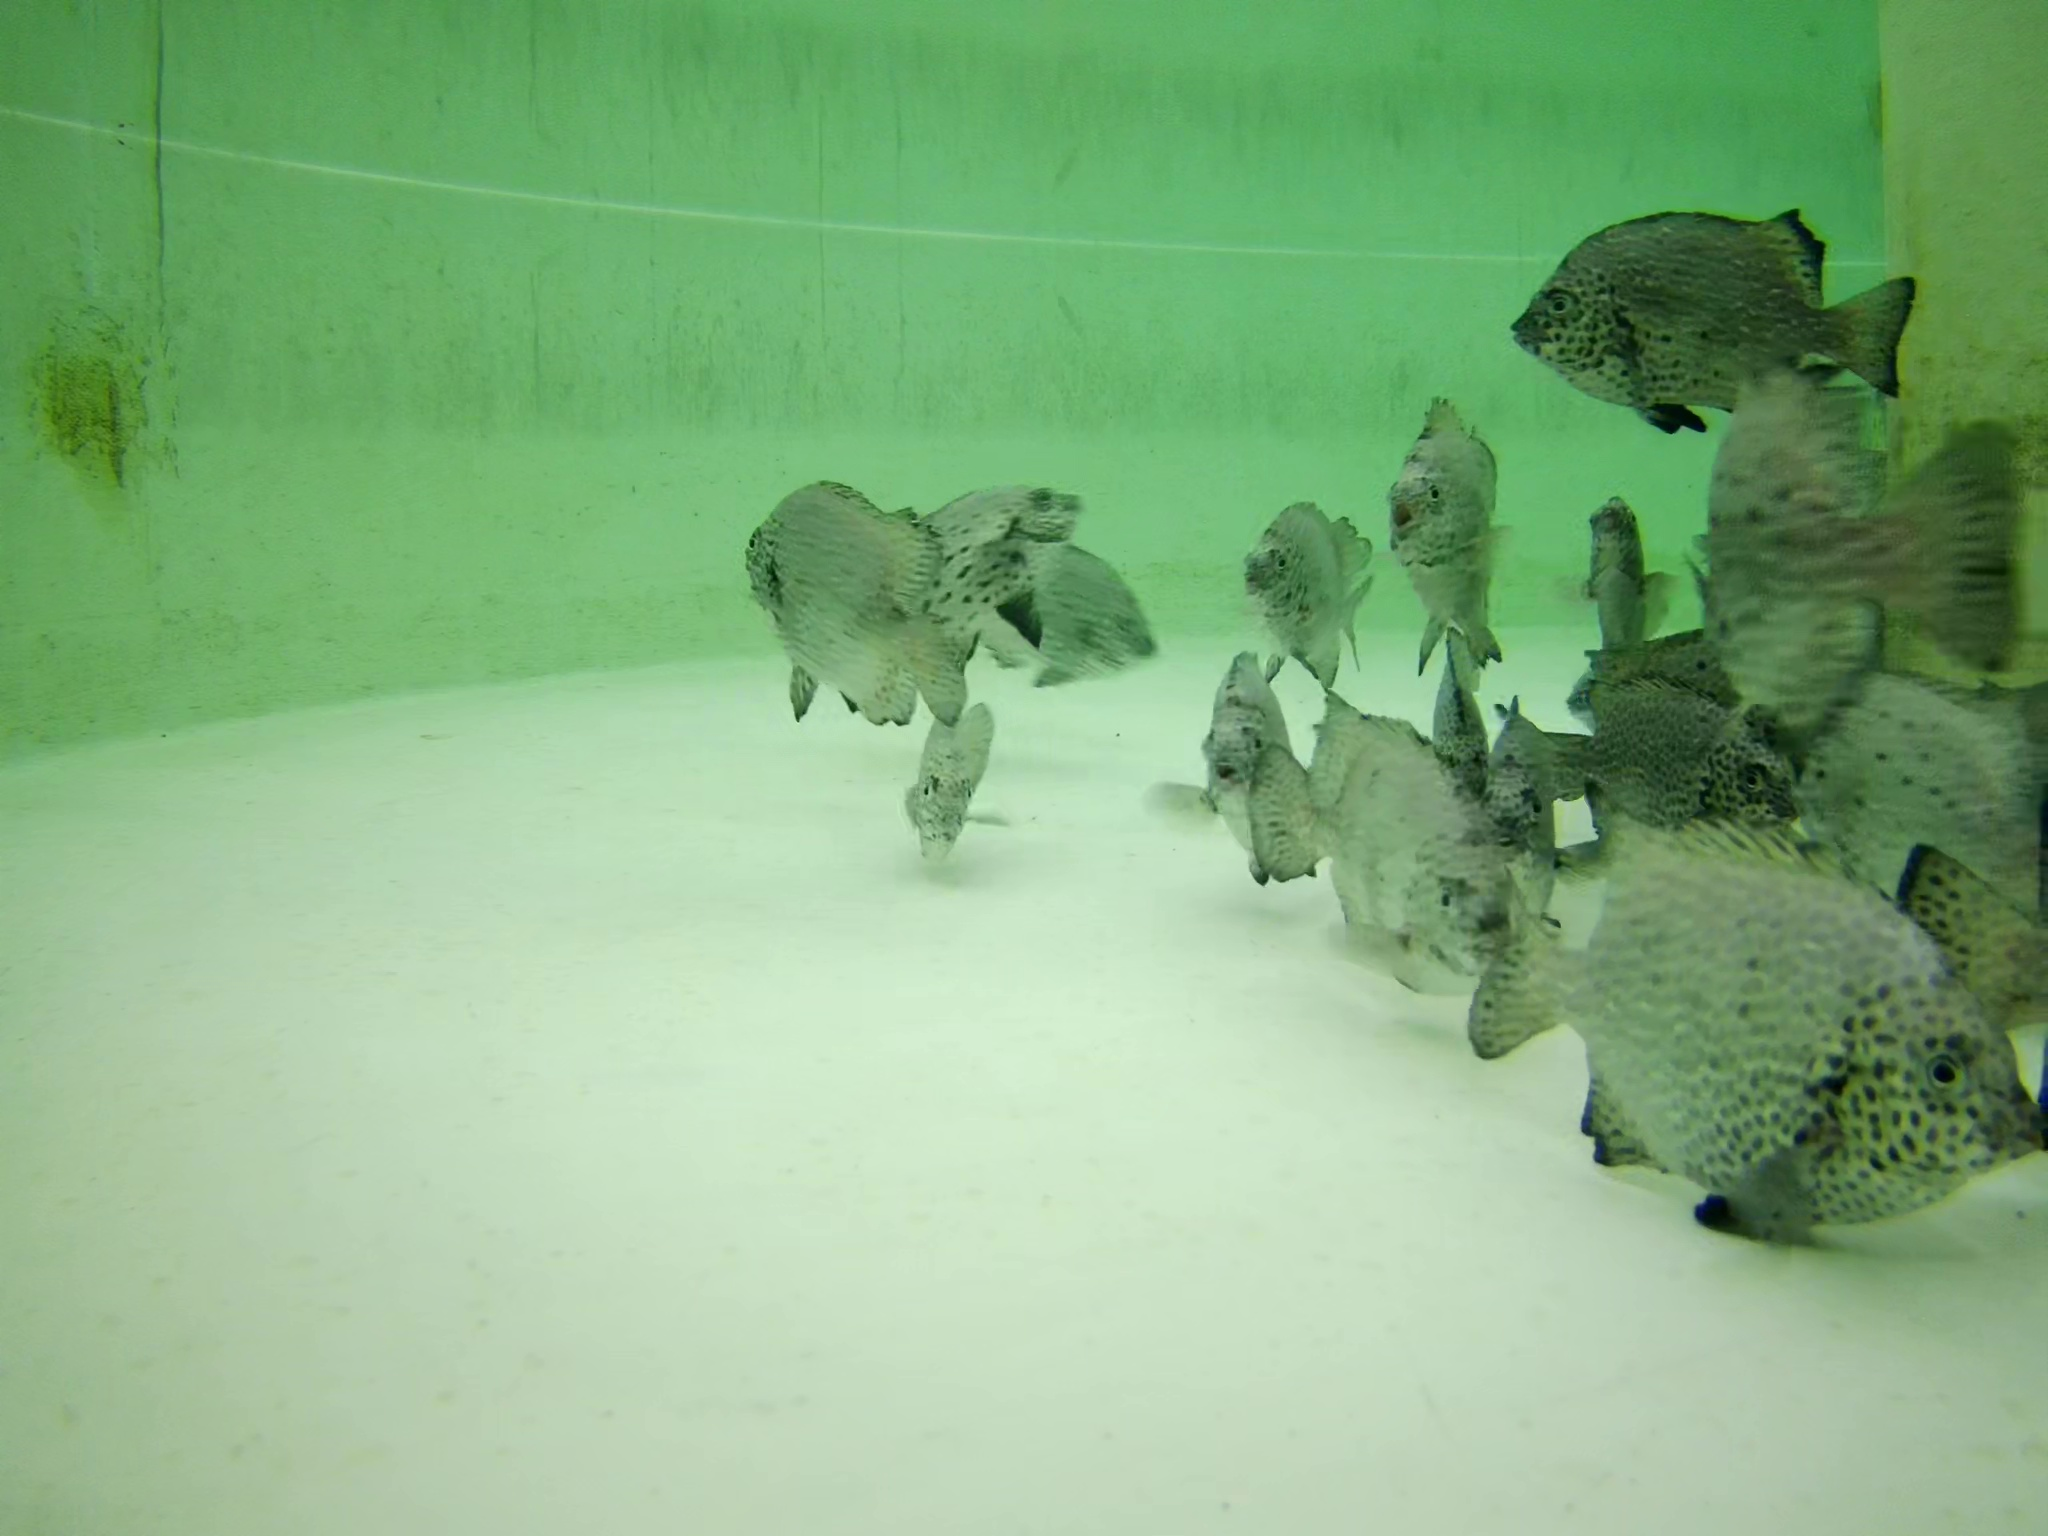fish: (1456, 807, 2048, 1223), (1680, 390, 2017, 713), (1495, 207, 1930, 407), (732, 478, 1051, 720), (1516, 670, 1775, 837), (1395, 379, 1535, 682), (1243, 691, 1437, 894), (1893, 837, 2048, 1031), (1188, 652, 1311, 884), (910, 471, 1092, 626), (1009, 531, 1151, 691), (1247, 503, 1380, 670), (1485, 702, 1579, 920), (1574, 474, 1661, 671), (892, 702, 998, 857), (1432, 666, 1487, 841)
